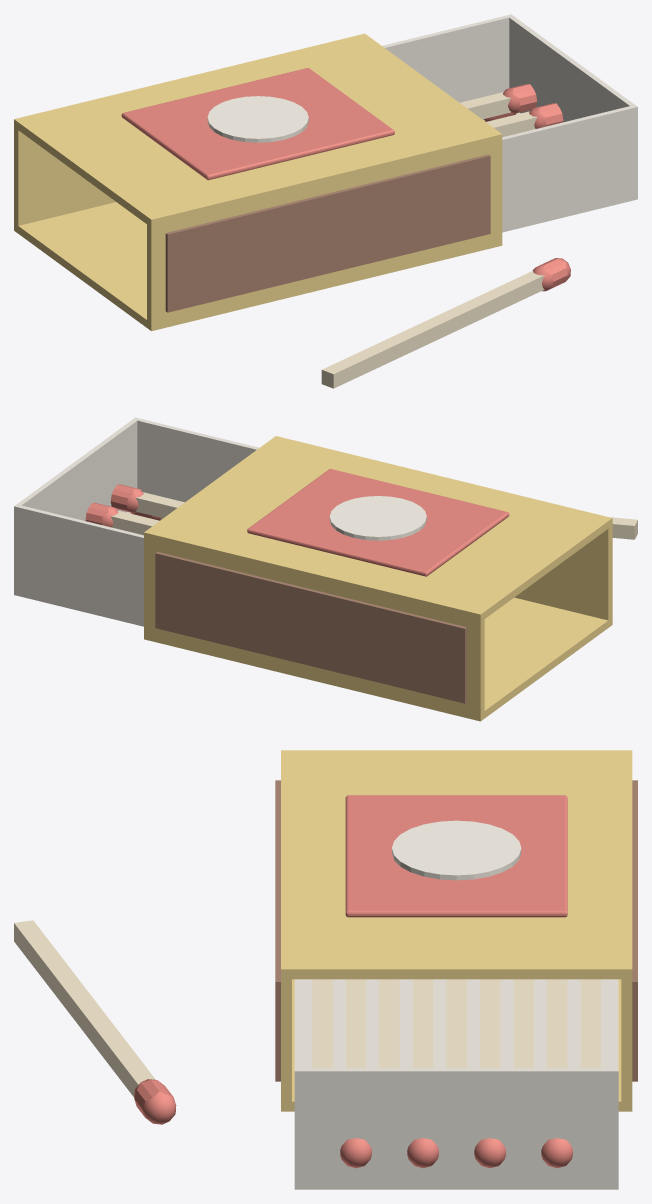
The model's file is matches.glb.
3 renders of one model, top to bottom at view 1: azimuth 30°, elevation 25°; view 2: azimuth 150°, elevation 25°; view 3: azimuth 270°, elevation 25°, orthographic. The views are drawn at different scales.
Parts seen in each view (by area): view 1: Matches_Sleeve_Card, Matches_Striker, Matches_Tray_Card, Matches_Label, Match_Loose_Stick, Matches_Label_Dot, Matches_Sticks, Matches_Heads, Match_Loose_Head; view 2: Matches_Sleeve_Card, Matches_Striker, Matches_Tray_Card, Matches_Label, Matches_Label_Dot, Matches_Sticks, Matches_Heads, Match_Loose_Stick; view 3: Matches_Sleeve_Card, Matches_Tray_Card, Matches_Label, Matches_Sticks, Matches_Label_Dot, Match_Loose_Stick, Matches_Striker, Matches_Heads, Match_Loose_Head.
Part boxes in pixels (x1,y1,x2,y2): Matches_Sleeve_Card: (14, 33, 502, 331); Matches_Striker: (165, 154, 490, 312); Matches_Tray_Card: (382, 14, 637, 232); Matches_Label: (121, 68, 394, 180); Match_Loose_Stick: (321, 271, 544, 388); Matches_Label_Dot: (207, 96, 308, 142); Matches_Sticks: (460, 92, 537, 136); Matches_Heads: (484, 84, 563, 128); Match_Loose_Head: (532, 258, 570, 291); Matches_Sleeve_Card: (144, 436, 612, 721); Matches_Striker: (155, 552, 467, 703); Matches_Tray_Card: (14, 417, 259, 626); Matches_Label: (247, 469, 509, 576); Matches_Label_Dot: (329, 496, 426, 540); Matches_Sticks: (110, 492, 184, 535); Matches_Heads: (85, 484, 161, 527); Match_Loose_Stick: (609, 517, 637, 539); Matches_Sleeve_Card: (281, 750, 632, 1111); Matches_Tray_Card: (294, 979, 618, 1189); Matches_Label: (345, 795, 567, 917); Matches_Sticks: (312, 979, 600, 1068); Matches_Label_Dot: (392, 820, 521, 880); Match_Loose_Stick: (14, 920, 155, 1097); Matches_Striker: (275, 780, 637, 1081); Matches_Heads: (340, 1138, 572, 1168); Match_Loose_Head: (134, 1079, 176, 1124).
Size of the model in its own units: 0.0799 by 0.0192 by 0.0674.
